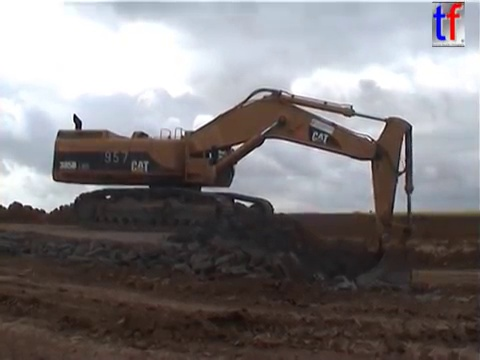excavator: (49, 84, 416, 302)
